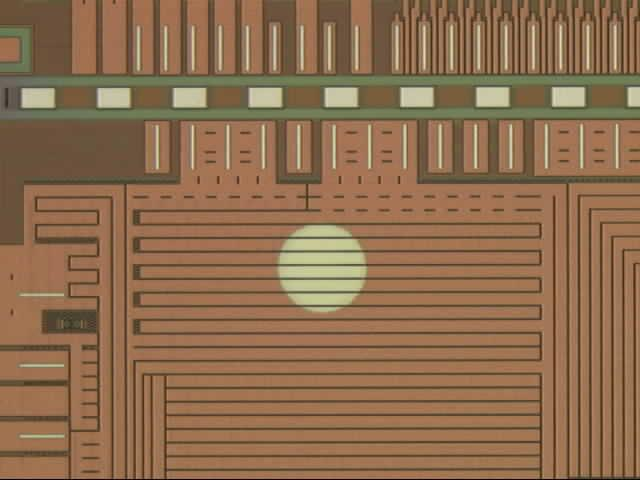BLOCK ETCH: (273, 219, 373, 319)
